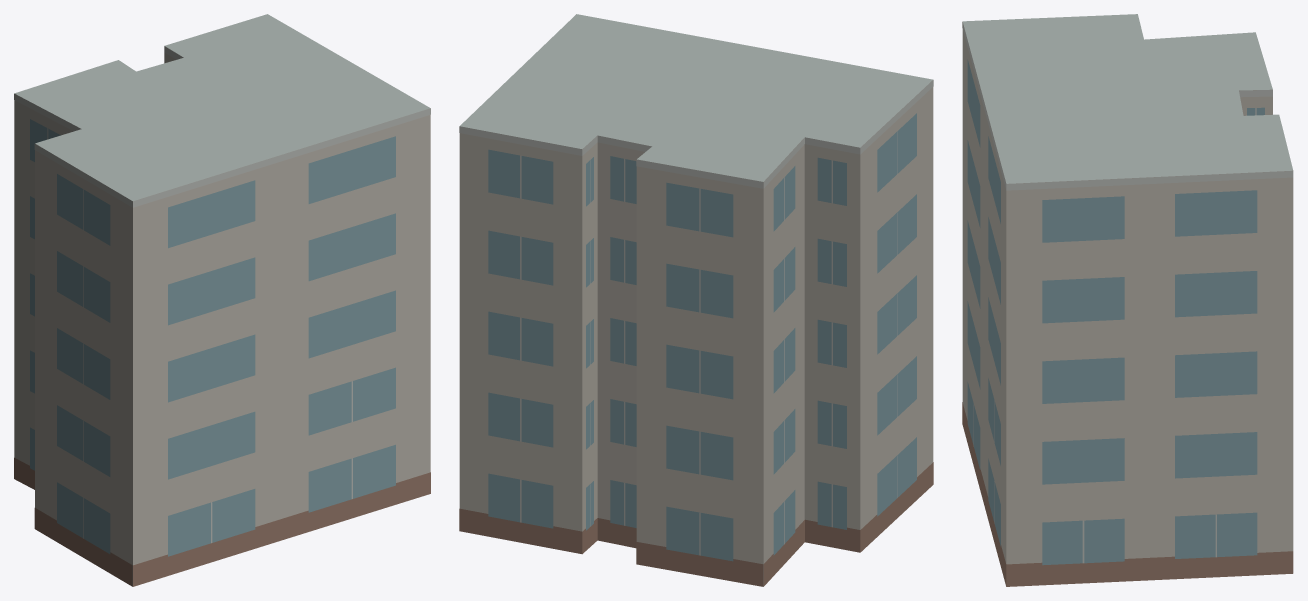
The model's file is survey-upis-32764456.glb.
3 renders of one model, left to right at view 1: azimuth 30°, elevation 25°; view 2: azimuth 150°, elevation 25°; view 3: azimuth 270°, elevation 25°, orthographic. The views are drawn at different scales.
Visible parts, largest first — view 1: survey-upis-32764456.tmp; view 2: survey-upis-32764456.tmp; view 3: survey-upis-32764456.tmp.
Boxes of the visible parts, <box> form: survey-upis-32764456.tmp: <box>14,14,430,586</box>; survey-upis-32764456.tmp: <box>459,14,933,586</box>; survey-upis-32764456.tmp: <box>962,14,1293,586</box>.
Bounding box in the file's own units: 13.03 × 14.4 × 10.72.
